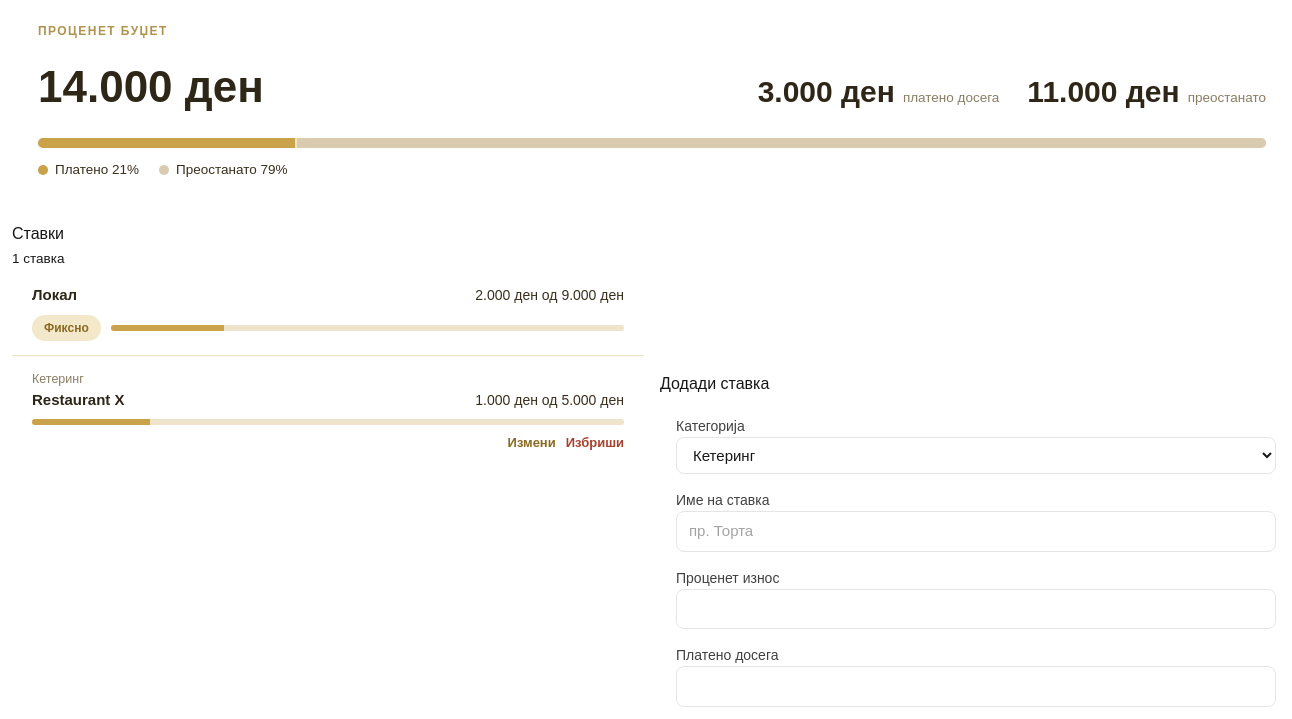
BudgetClient › deletes an item
This screenshot has width=1292, height=719.
Click the button with aria-label "избриши restaurant x" at (595, 443), box left=566, top=433, right=624, bottom=452
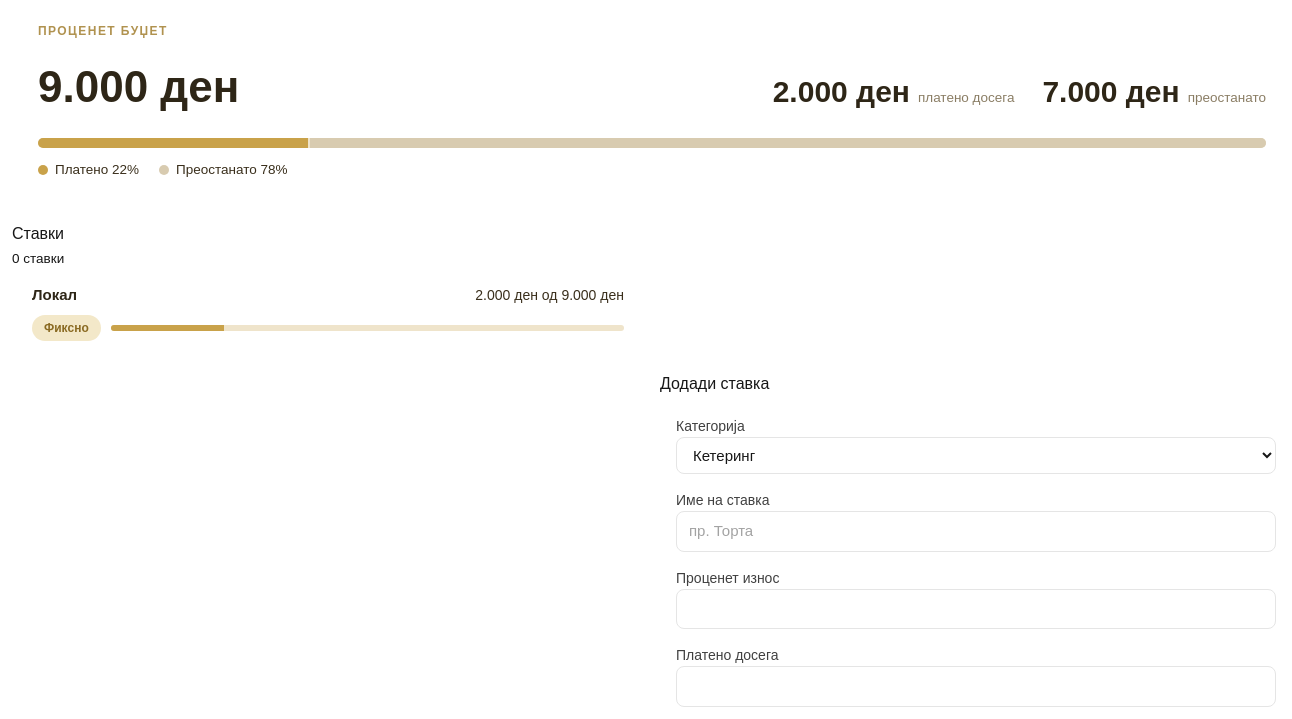
Result: the text "Restaurant X" is gone
